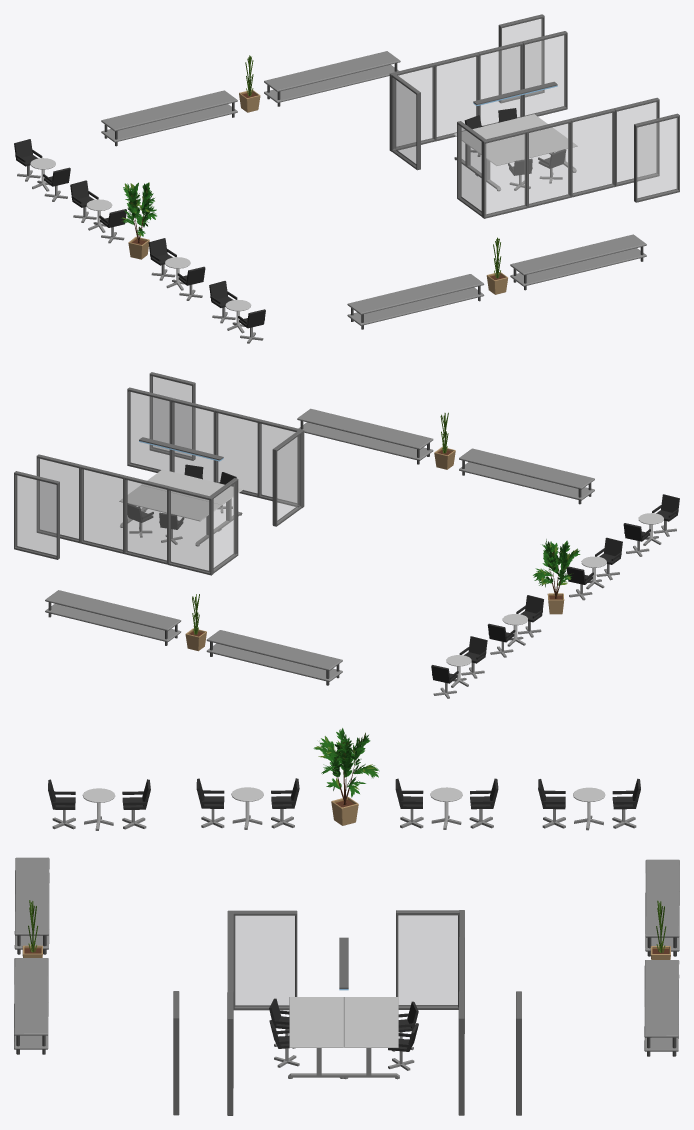
Rendered from d-roomcomp-r8-conferenceroom-in.glb.
3 renders of one model, top to bottom at view 1: azimuth 30°, elevation 25°; view 2: azimuth 150°, elevation 25°; view 3: azimuth 270°, elevation 25°, orthographic. The views are drawn at different scales.
Parts seen in each view (by area): view 1: building_office.060, drawer-flat.003, drawer-flat.006, drawer-flat.004, drawer-flat.005, desk.017, desk.018, plantBushyFernyBig.004, table_chair.020, table_chair.018, table_chair.019, table_chair.016 (+2 smaller); view 2: building_office.060, drawer-flat.005, drawer-flat.006, drawer-flat.004, drawer-flat.003, desk.018, desk.017, plantBushyFernyBig.004, table_chair.016, table_chair.018, table_chair.019, table_chair.020 (+2 smaller); view 3: building_office.060, desk.017, desk.018, drawer-flat.005, drawer-flat.003, drawer-flat.004, drawer-flat.006, plantBushyFernyBig.004, table_chair.016, table_chair.020, table_chair.019, table_chair.018.
Boxes of the visible parts, <box> form: building_office.060: <box>389,14,679,218</box>; drawer-flat.003: <box>510,234,646,290</box>; drawer-flat.006: <box>101,90,237,146</box>; drawer-flat.004: <box>347,274,484,329</box>; drawer-flat.005: <box>264,51,400,106</box>; desk.017: <box>473,81,577,191</box>; desk.018: <box>453,83,557,174</box>; plantBushyFernyBig.004: <box>121,182,156,259</box>; table_chair.020: <box>148,238,205,300</box>; table_chair.018: <box>14,139,70,201</box>; table_chair.019: <box>209,281,265,343</box>; table_chair.016: <box>70,180,126,243</box>; building_office.060: <box>14,372,304,575</box>; drawer-flat.005: <box>45,590,181,645</box>; drawer-flat.006: <box>206,630,342,685</box>; drawer-flat.004: <box>459,448,594,504</box>; drawer-flat.003: <box>297,408,433,464</box>; desk.018: <box>119,437,223,546</box>; desk.017: <box>139,438,243,530</box>; plantBushyFernyBig.004: <box>533,539,580,614</box>; table_chair.016: <box>487,595,543,657</box>; table_chair.018: <box>431,636,487,698</box>; table_chair.019: <box>623,494,679,556</box>; table_chair.020: <box>566,537,622,600</box>; building_office.060: <box>173,910,521,1115</box>; desk.017: <box>269,937,348,1078</box>; desk.018: <box>339,937,418,1079</box>; drawer-flat.005: <box>644,960,679,1056</box>; drawer-flat.003: <box>14,958,48,1054</box>; drawer-flat.004: <box>14,857,49,954</box>; drawer-flat.006: <box>645,859,679,956</box>; plantBushyFernyBig.004: <box>313,728,379,825</box>; table_chair.016: <box>395,778,498,829</box>; table_chair.020: <box>196,778,299,829</box>; table_chair.019: <box>48,779,150,830</box>; table_chair.018: <box>538,778,640,830</box>.
Size of the model in its own units: 22.23 by 3.34 by 20.63.
3 materials, 2 textured.
